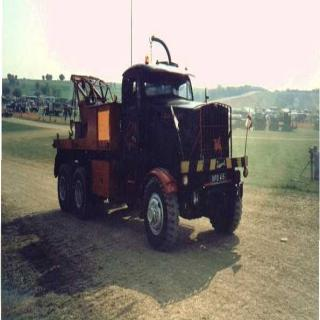Towing_truck: (51, 34, 251, 251)
